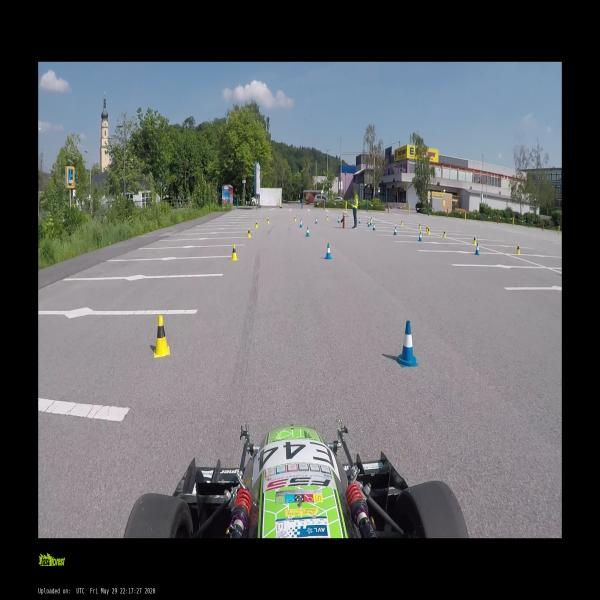blue_cone: (398, 320, 417, 366), (325, 243, 331, 260), (475, 242, 479, 255), (418, 231, 422, 241), (392, 226, 396, 235), (306, 227, 309, 236), (337, 217, 340, 223), (300, 220, 302, 227), (373, 224, 375, 231), (358, 217, 360, 224), (368, 220, 370, 226), (315, 218, 317, 224), (367, 218, 369, 224), (370, 219, 372, 225), (300, 218, 302, 224)
yellow_cone: (154, 314, 171, 357), (231, 245, 238, 260), (516, 244, 520, 255), (473, 235, 476, 245), (248, 228, 251, 237), (443, 230, 446, 238), (255, 220, 258, 228), (427, 227, 430, 234), (401, 220, 404, 226), (426, 225, 428, 233), (419, 222, 421, 228), (294, 216, 296, 222), (267, 218, 269, 223), (327, 215, 328, 220), (371, 216, 372, 221)
